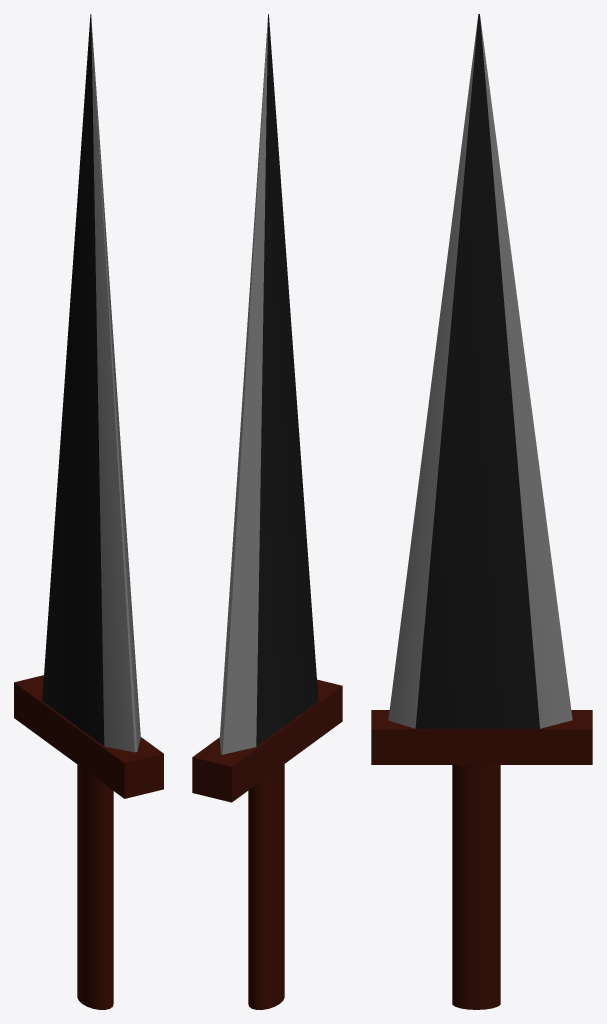
Rendered from knife.fbx.
The picture shows the model from 3 angles, left to right: view 1: azimuth 30°, elevation 25°; view 2: azimuth 150°, elevation 25°; view 3: azimuth 270°, elevation 25°; orthographic projection.
Parts seen in each view (by area): view 1: Box001, Cylinder001, Box002; view 2: Box001, Cylinder001, Box002; view 3: Box001, Cylinder001, Box002.
Boxes of the visible parts, x1,y1,x2,y2 form: Box001: (42, 14, 140, 752); Cylinder001: (77, 764, 113, 1009); Box002: (14, 675, 163, 798); Box001: (219, 14, 318, 754); Cylinder001: (248, 764, 284, 1009); Box002: (192, 679, 342, 802); Box001: (388, 14, 572, 728); Cylinder001: (452, 765, 500, 1009); Box002: (371, 710, 592, 764).
Bounding box in the file's own units: 1.14 × 27.43 × 5.57.
